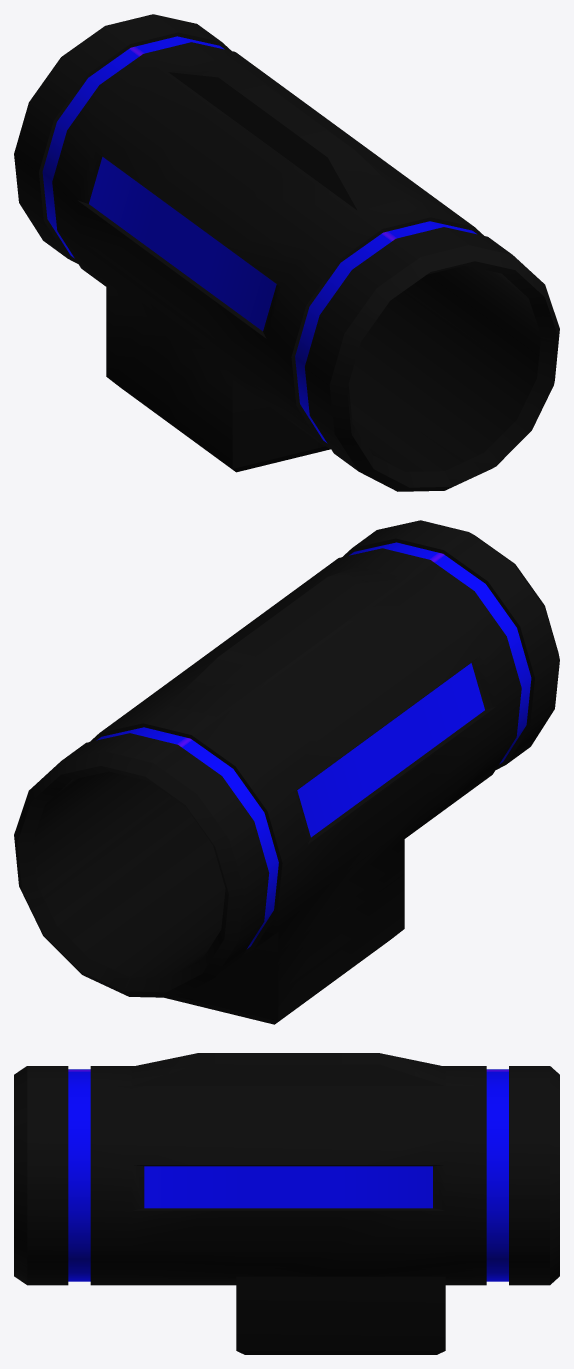
File: Msh_Scope.FBX
3 views of the same model, one above another, from view 1: azimuth 30°, elevation 25°; view 2: azimuth 150°, elevation 25°; view 3: azimuth 270°, elevation 25° (orthographic). The views are drawn at different scales.
Visible parts, largest first — view 1: Msh_Scope; view 2: Msh_Scope; view 3: Msh_Scope.
Part boxes in pixels (x1,y1,x2,y2): Msh_Scope: (14, 14, 559, 491); Msh_Scope: (14, 520, 559, 1024); Msh_Scope: (14, 1053, 559, 1354).
Size of the model in its own units: 5.34 by 7.09 by 13.24.
